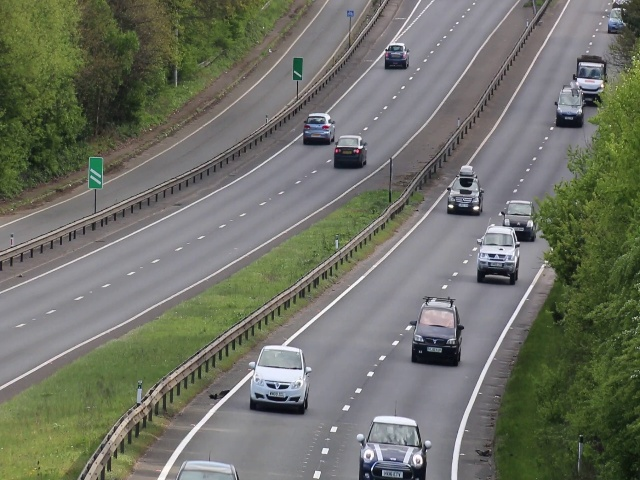car: (360, 415, 427, 480), (251, 345, 307, 410), (409, 298, 461, 366), (477, 226, 519, 283), (503, 199, 537, 242), (446, 177, 482, 213), (576, 57, 606, 98), (303, 108, 334, 145), (333, 133, 367, 166), (557, 90, 583, 128), (382, 42, 411, 70)
